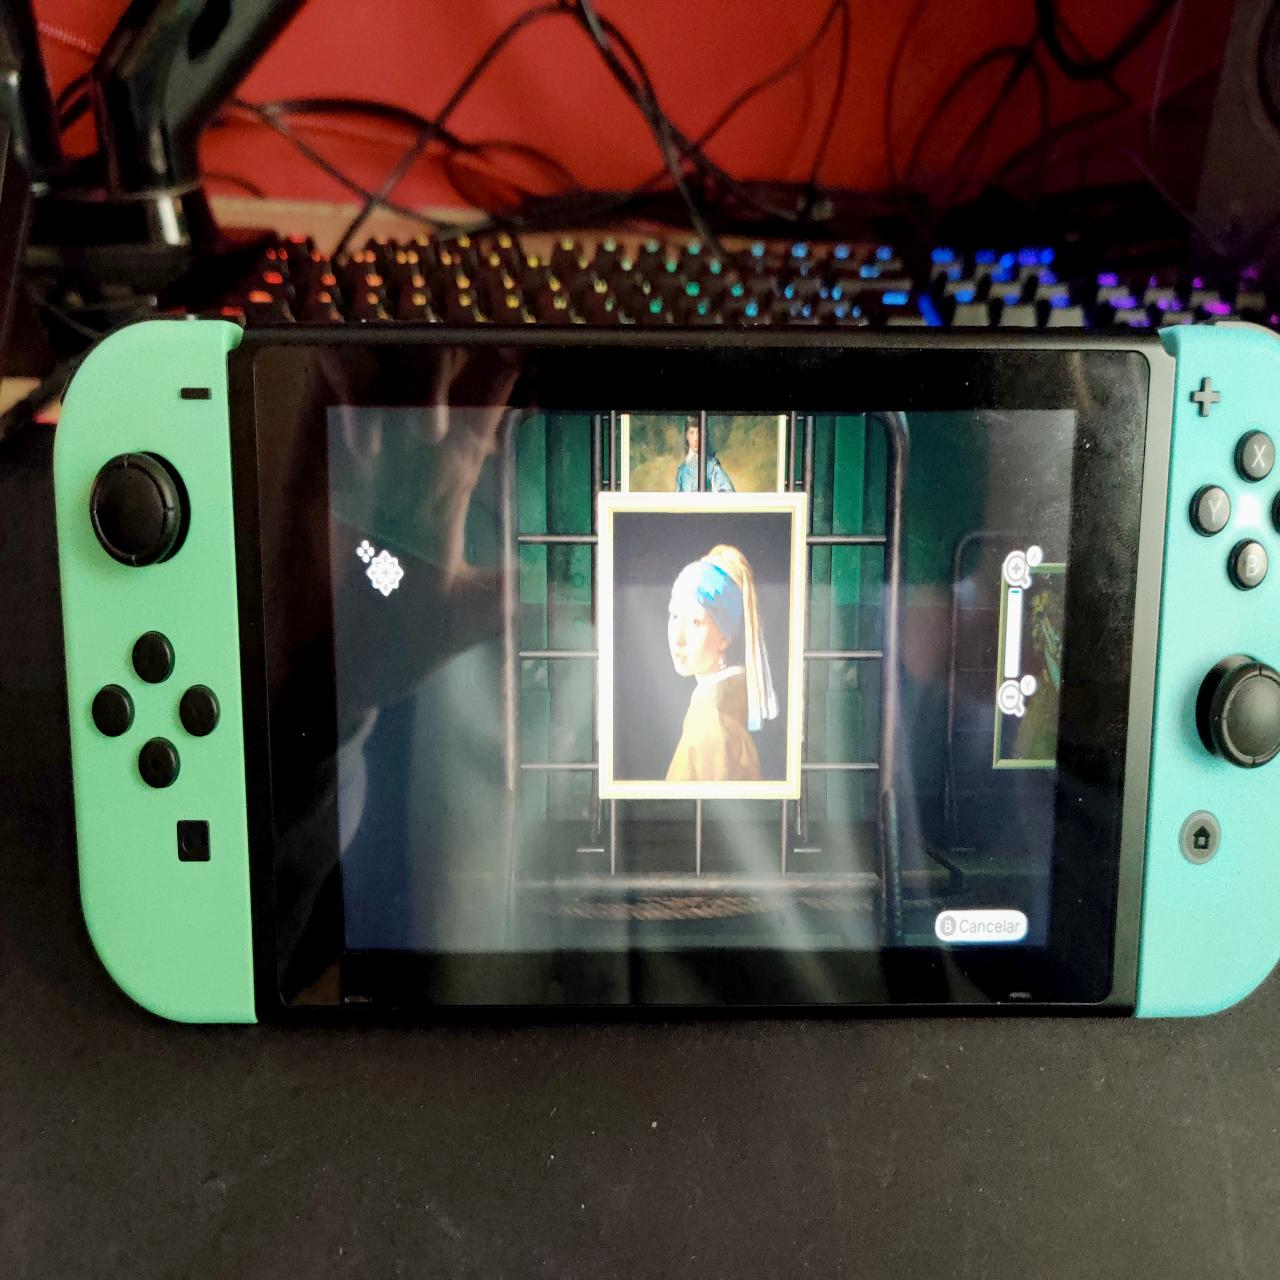PearlEarring: (617, 515, 788, 782)
